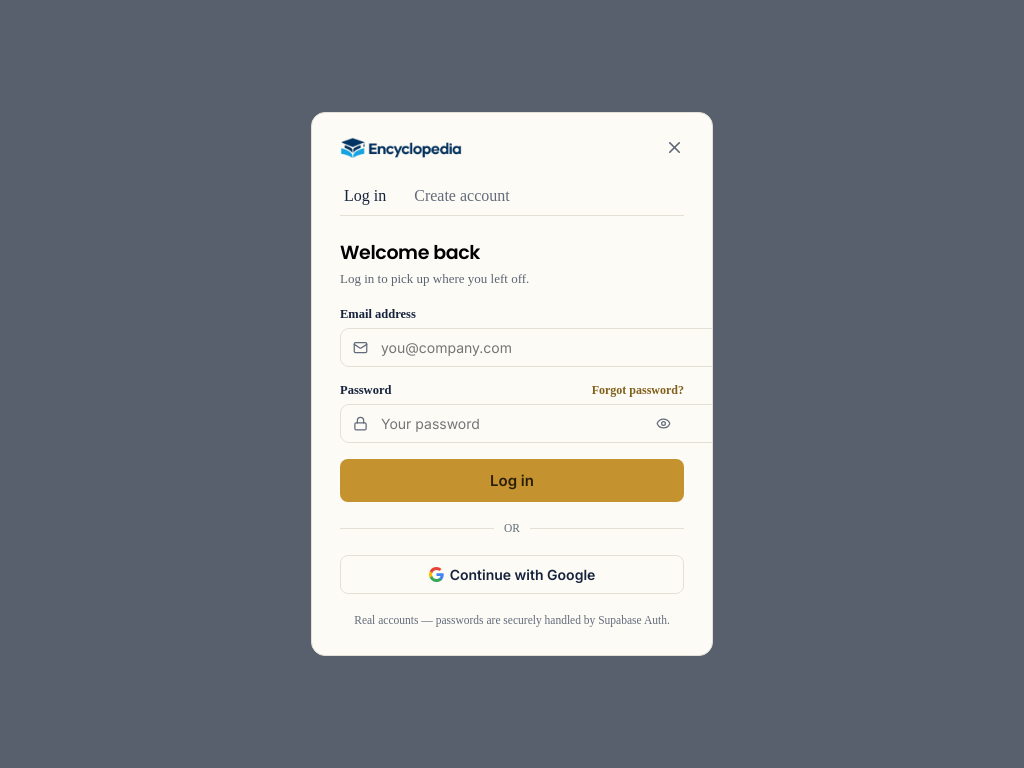
Test: AuthModal › shows the Supabase error message when login fails
Type "learner@example.com" into the field labelled "Email address" at (540, 347), box 340,328 -> 740,367
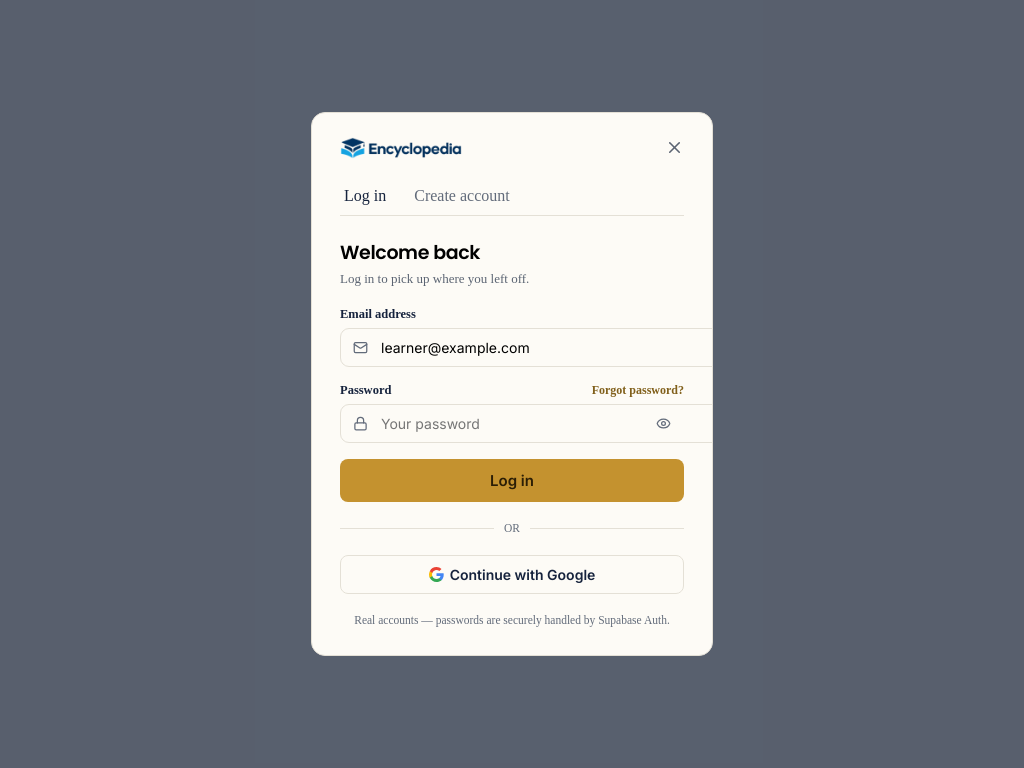
Type "password123" into the password field labelled "Password" at (553, 423), box 340,404 -> 766,443
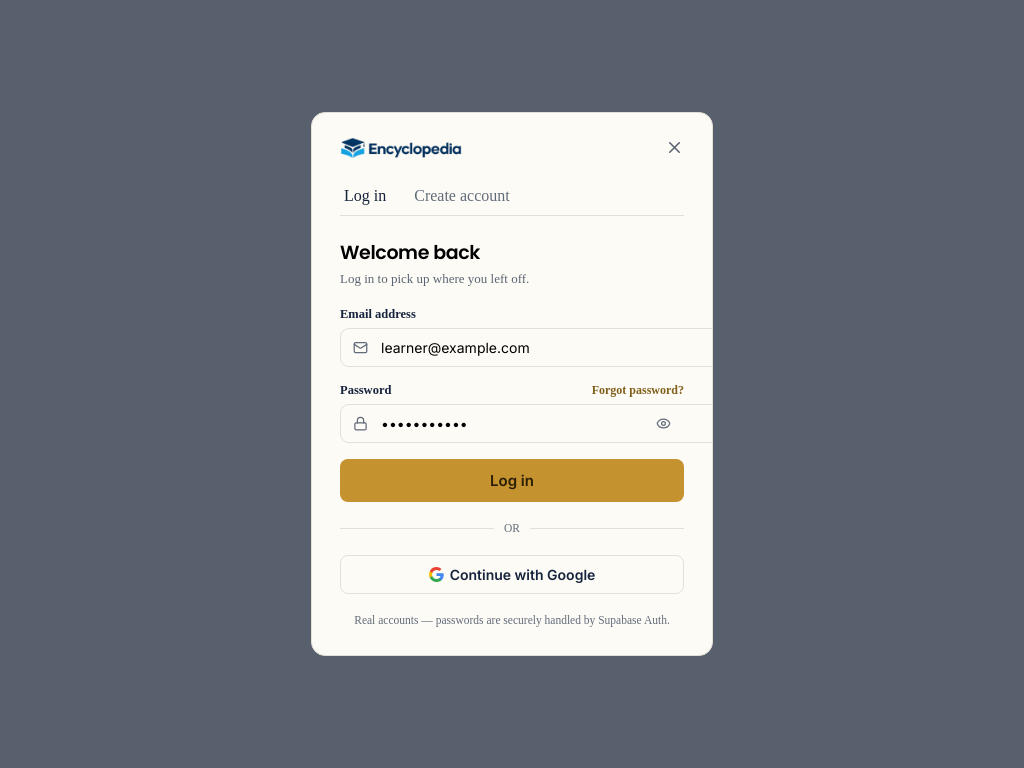
Click the button "Log in" at (512, 480), box 340,459 -> 684,502
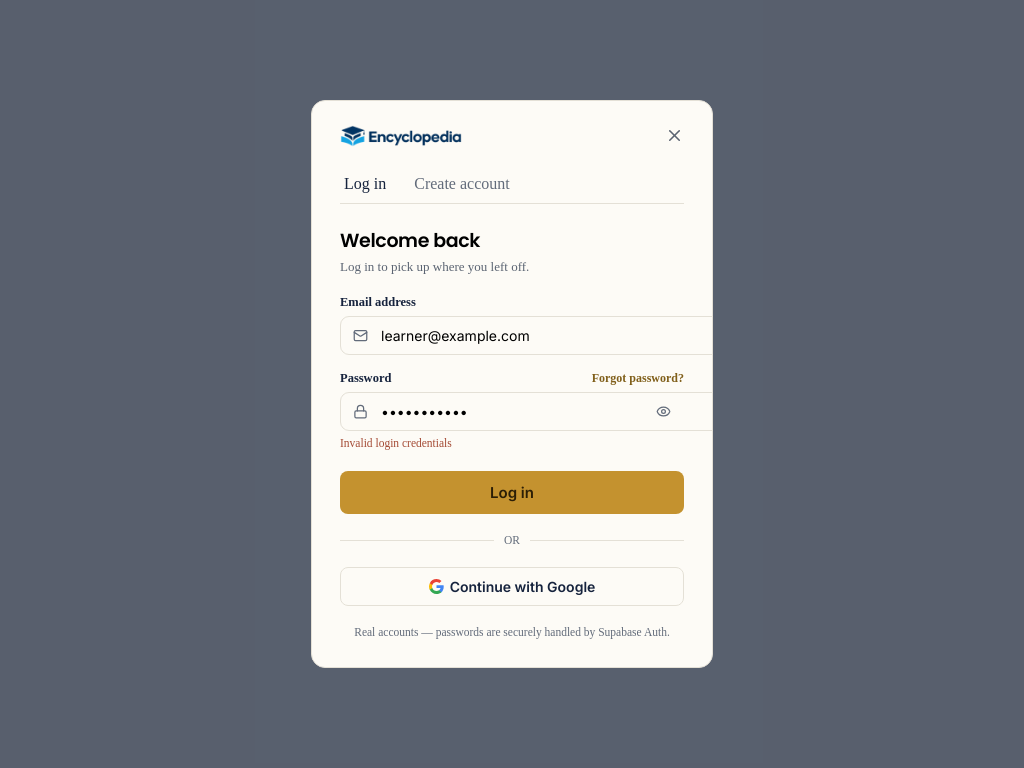
Check: the text "Invalid login credentials" is shown, box 340,437 -> 452,449
